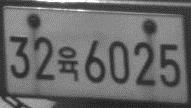0: (108, 41, 130, 84)
2: (32, 36, 55, 82), (133, 42, 155, 86)
3: (8, 35, 30, 80)
5: (159, 43, 181, 87)
6: (83, 39, 105, 83)
육: (56, 45, 79, 83)
